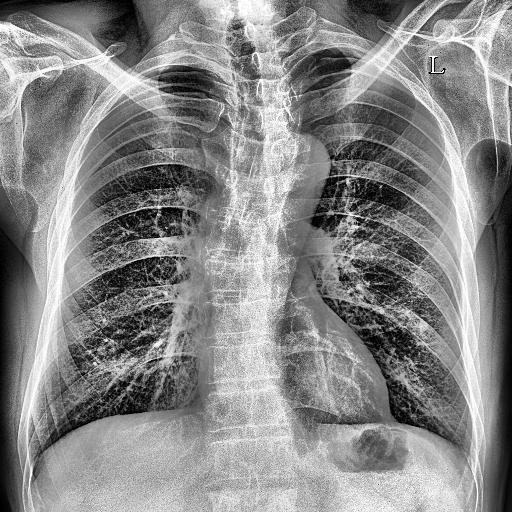0- Aortic enlargement: (236, 124, 332, 222)
9- Other lesion: (182, 18, 318, 498), (195, 140, 289, 404)
